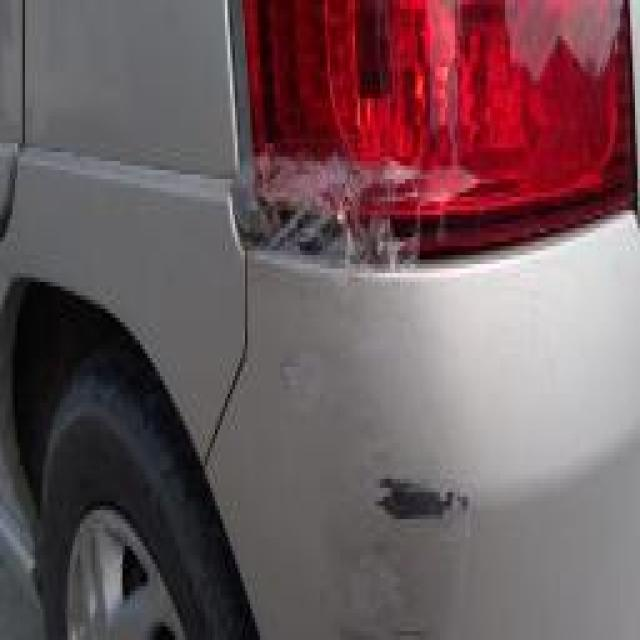Bumper: (240, 246, 640, 640)
